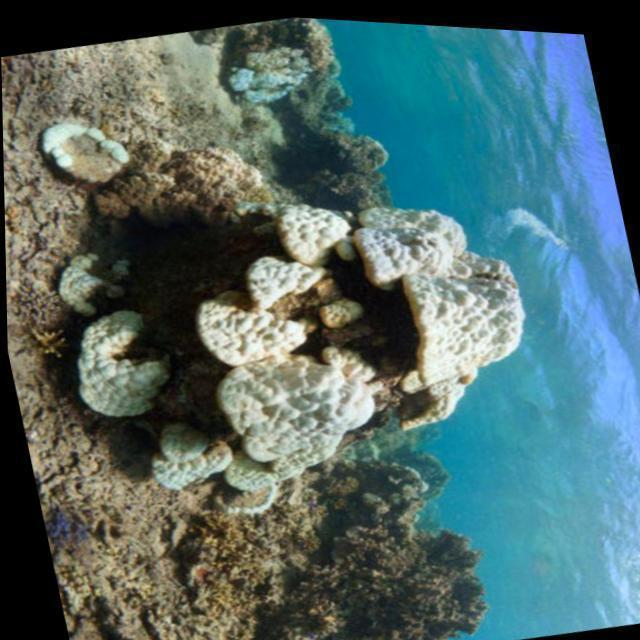Dead Coral: (218, 469, 501, 640)
